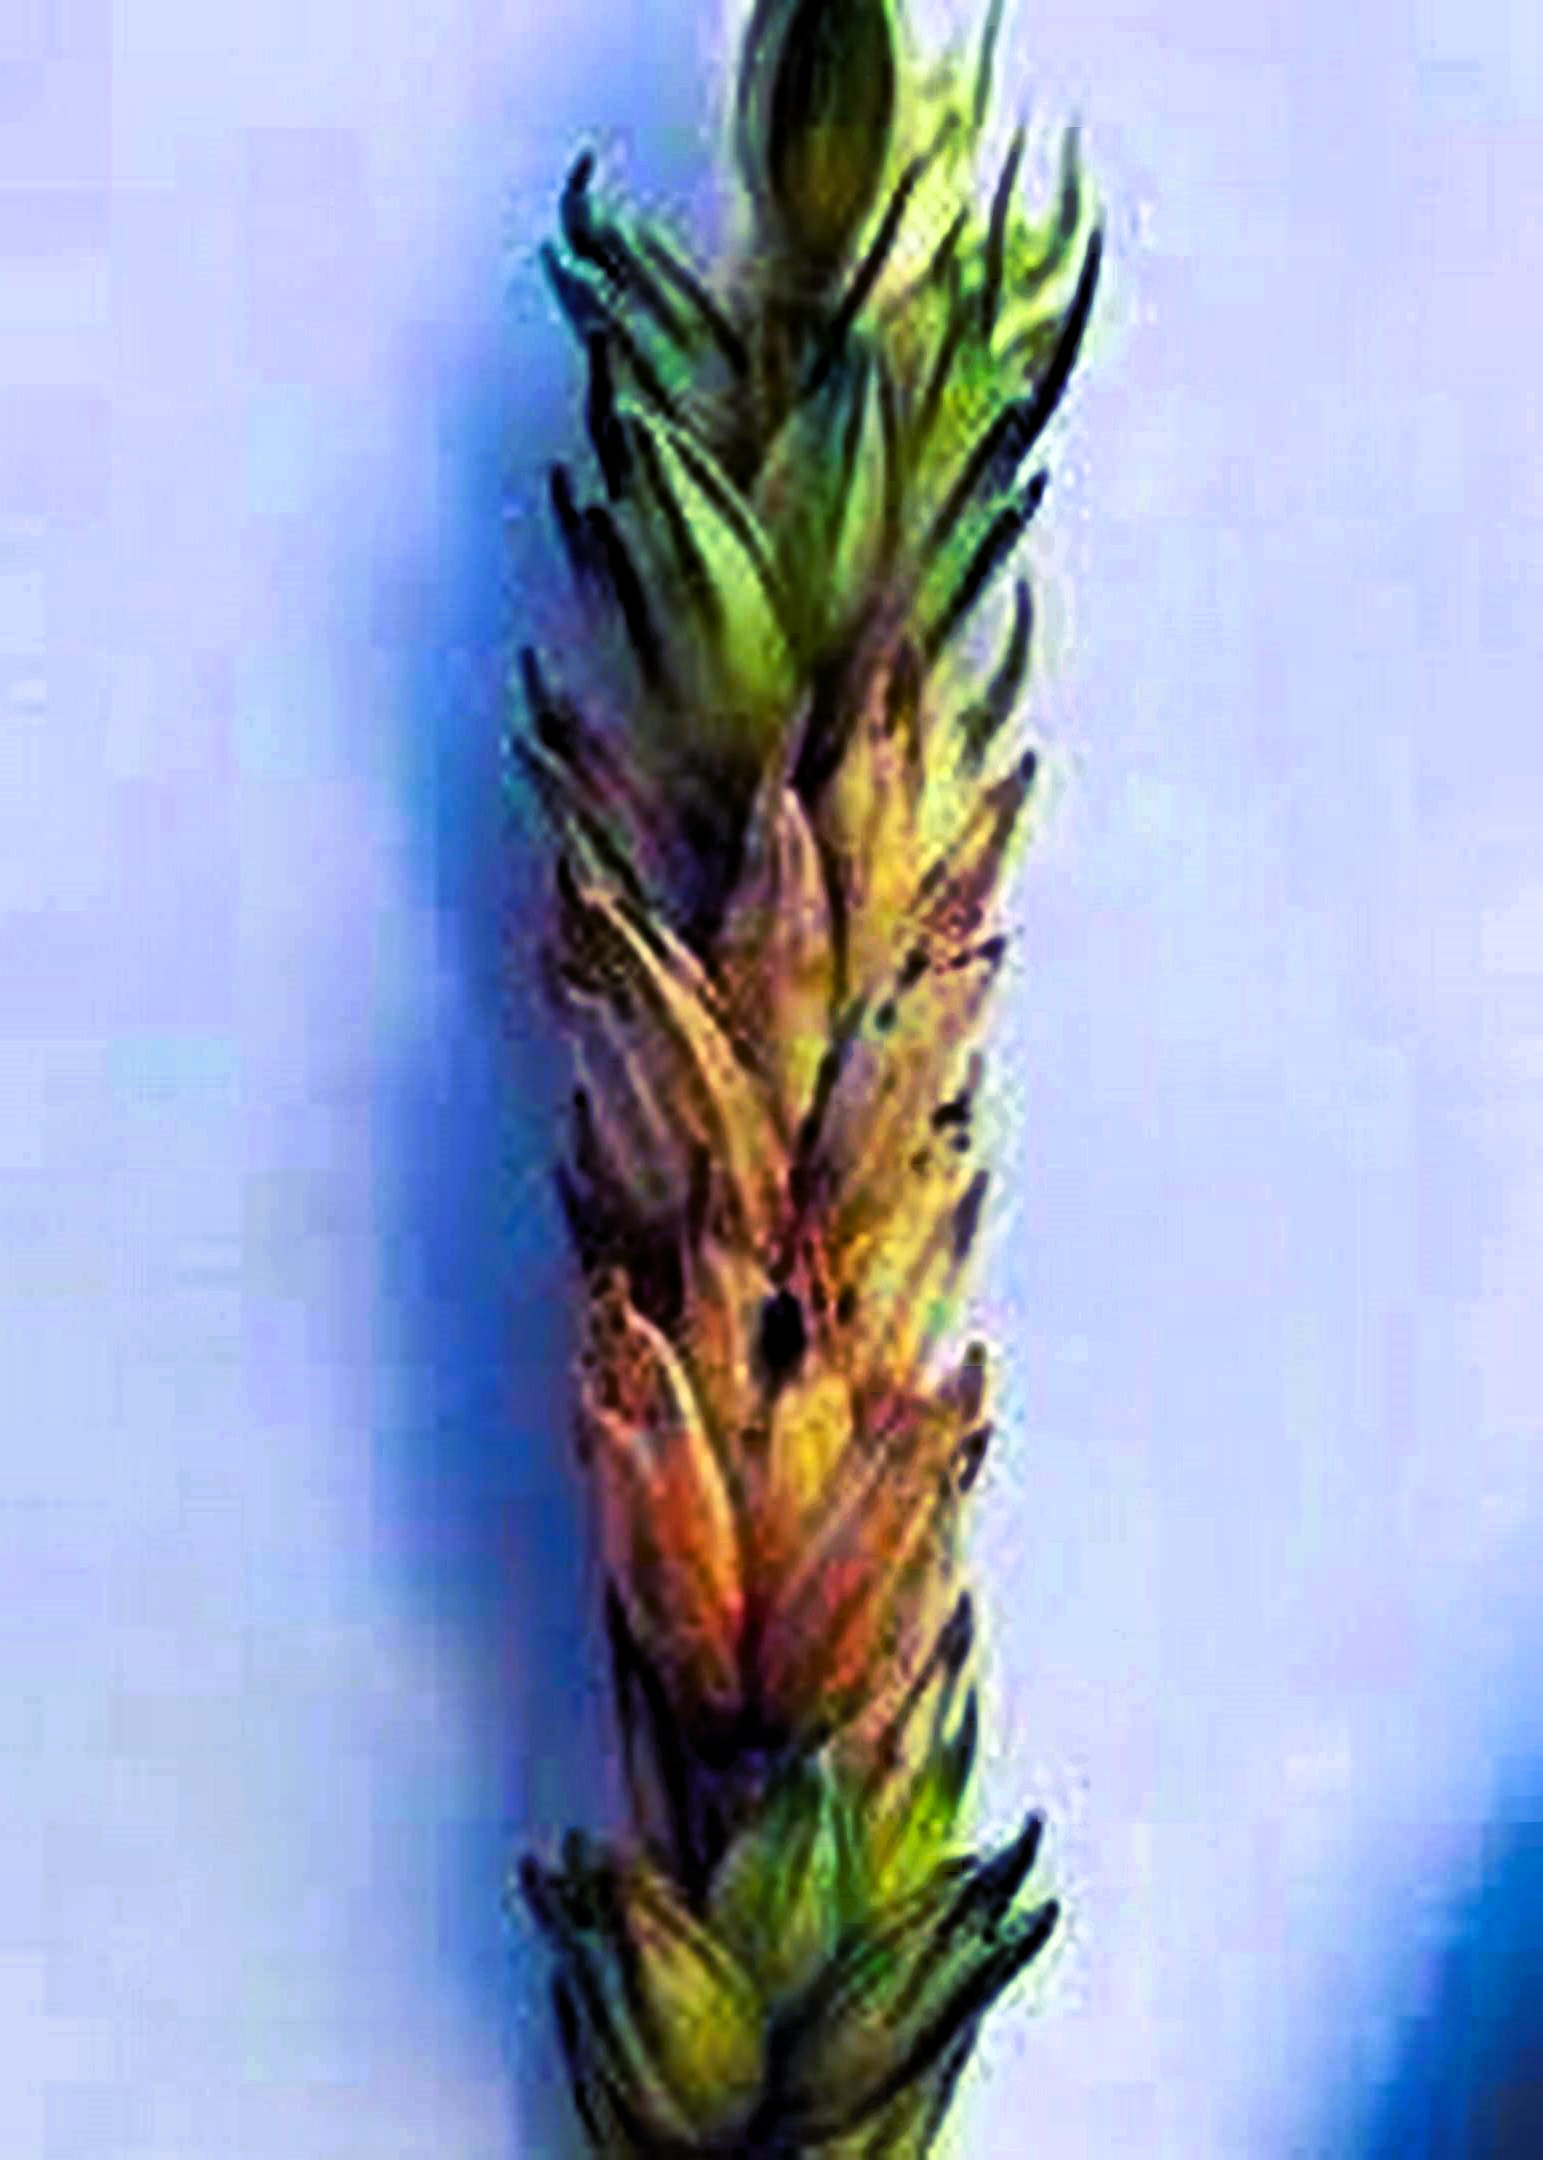Wheat scab: (473, 98, 1141, 2152)
